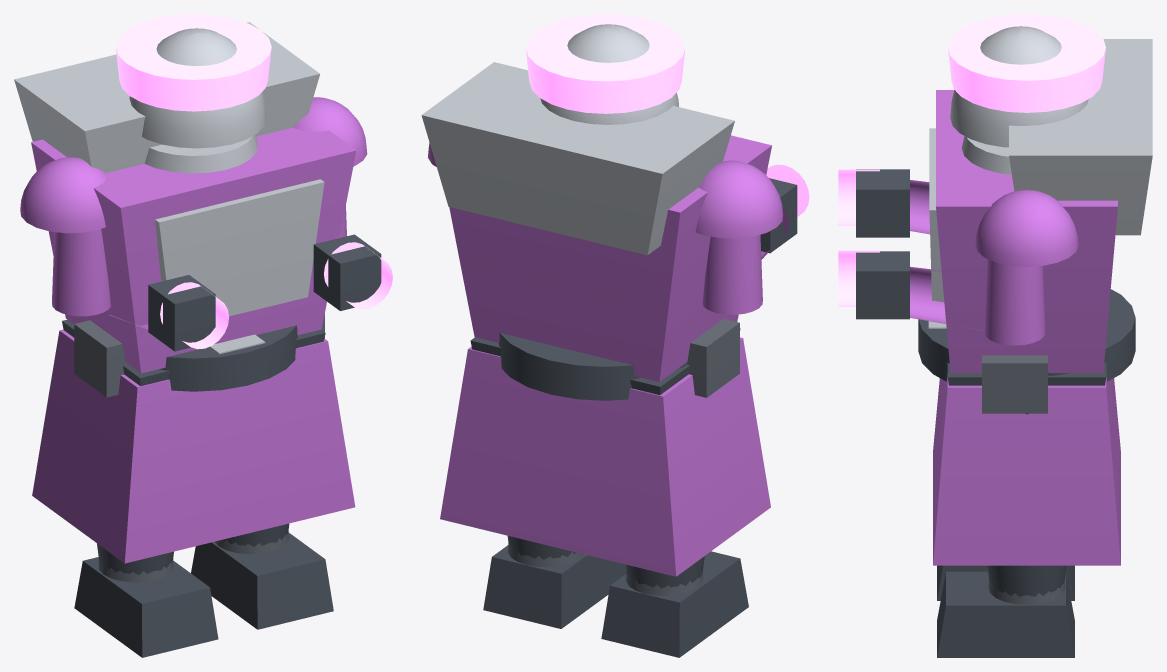
The model's file is yuri.glb.
3 renders of one model, left to right at view 1: azimuth 30°, elevation 25°; view 2: azimuth 150°, elevation 25°; view 3: azimuth 270°, elevation 25°, orthographic. The views are drawn at different scales.
Visible parts, largest first — view 1: Hull; view 2: Hull; view 3: Hull.
Part boxes in pixels (bbox=[...]): Hull: bbox=[14, 14, 392, 657]; Hull: bbox=[421, 14, 809, 657]; Hull: bbox=[838, 14, 1152, 657].
Size of the model in its own units: 0.62 by 1.01 by 0.4988.
